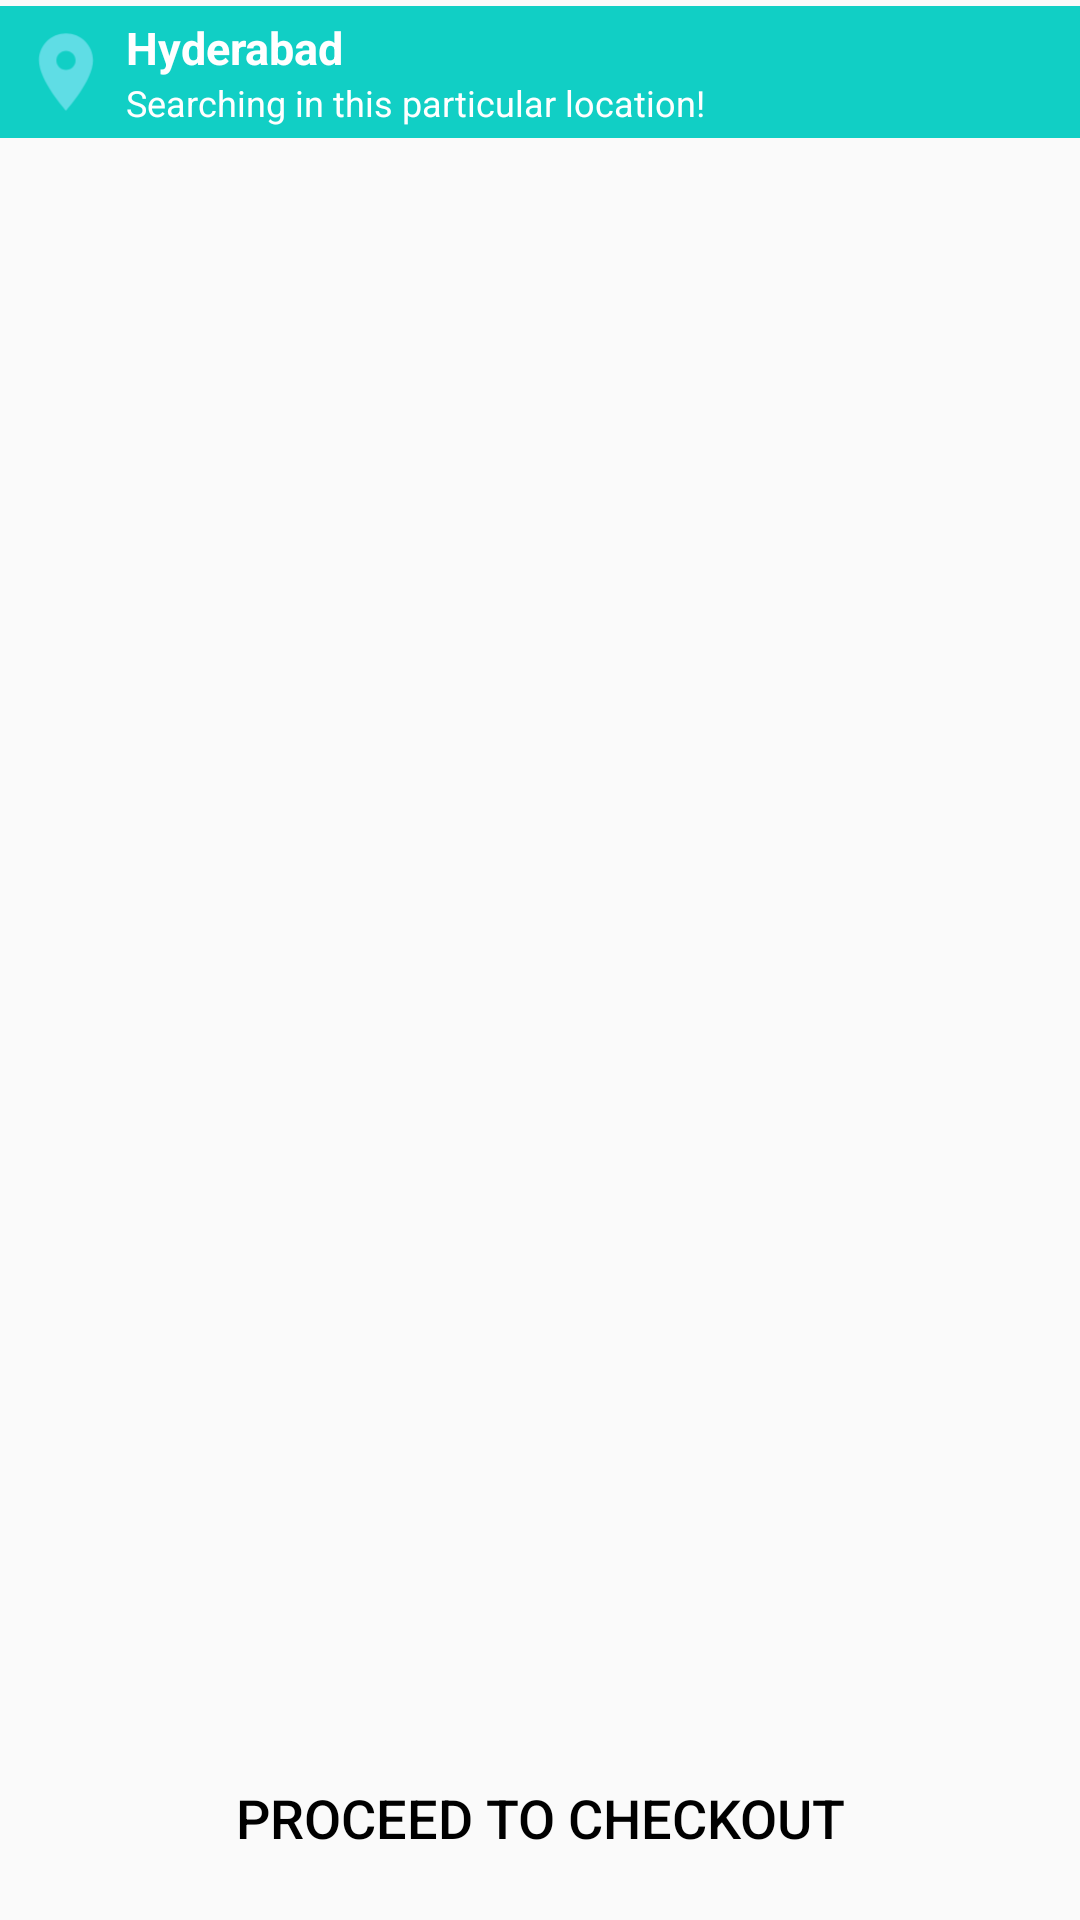

Where to tap for icons on this 1080 × 1920 app screen, as [x,y]:
locate: [66,71]
